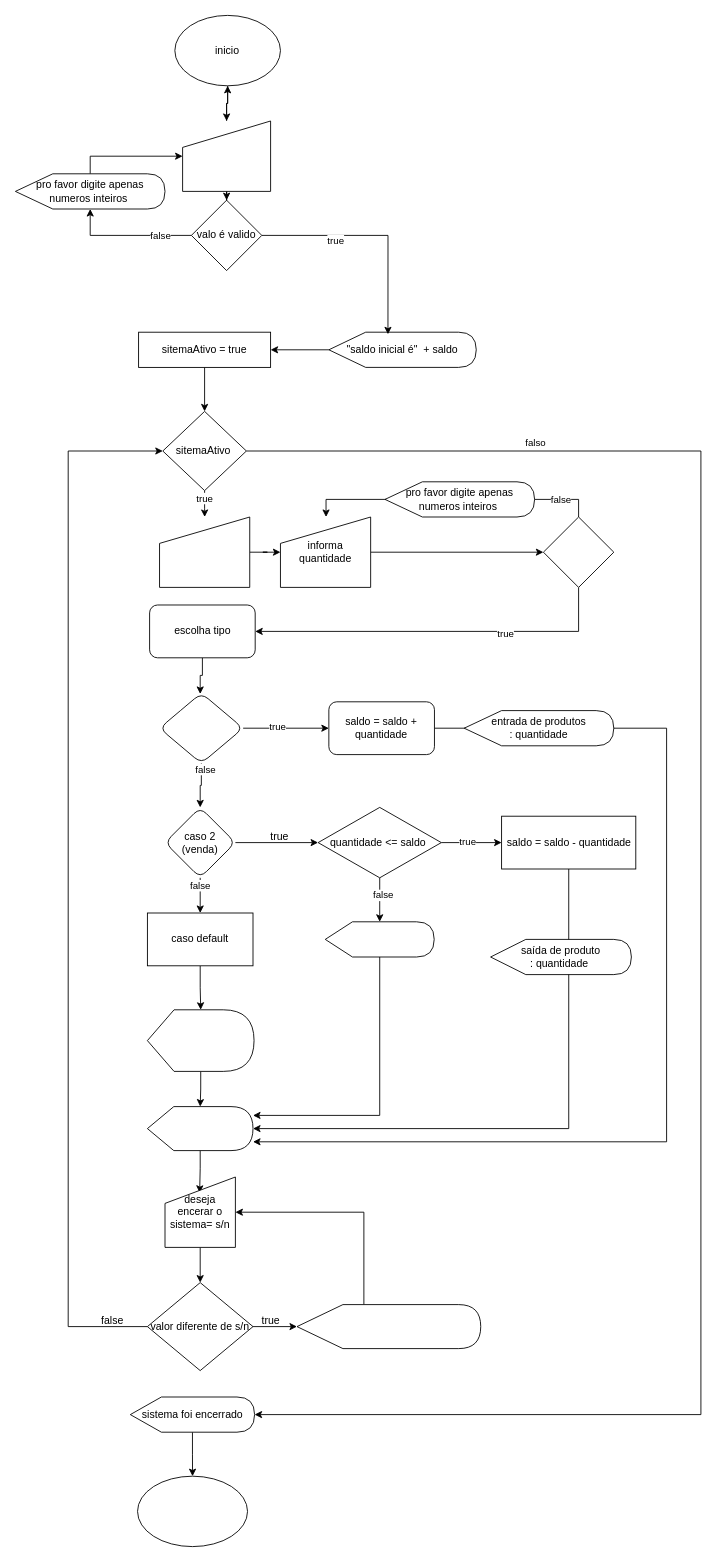
The diagram is 723 pixels wide and 1562 high, and some of its shapes have lost their labels. Here are the shapes that lost their labels. From the top down, the centre of each, then its label:
[226,155]: entrada de saldo
[204,551]: informa tipo de entrada
[578,551]: valor da quantidade valida
[201,727]: caso 1 (compra)
[379,939]: saldo insuficiente
[200,1040]: tipo de entrada não existe
[200,1128]: saldo
[388,1326]: por favor digite apenas "s" para SIM e "n" para NÃO
[192,1511]: fim
